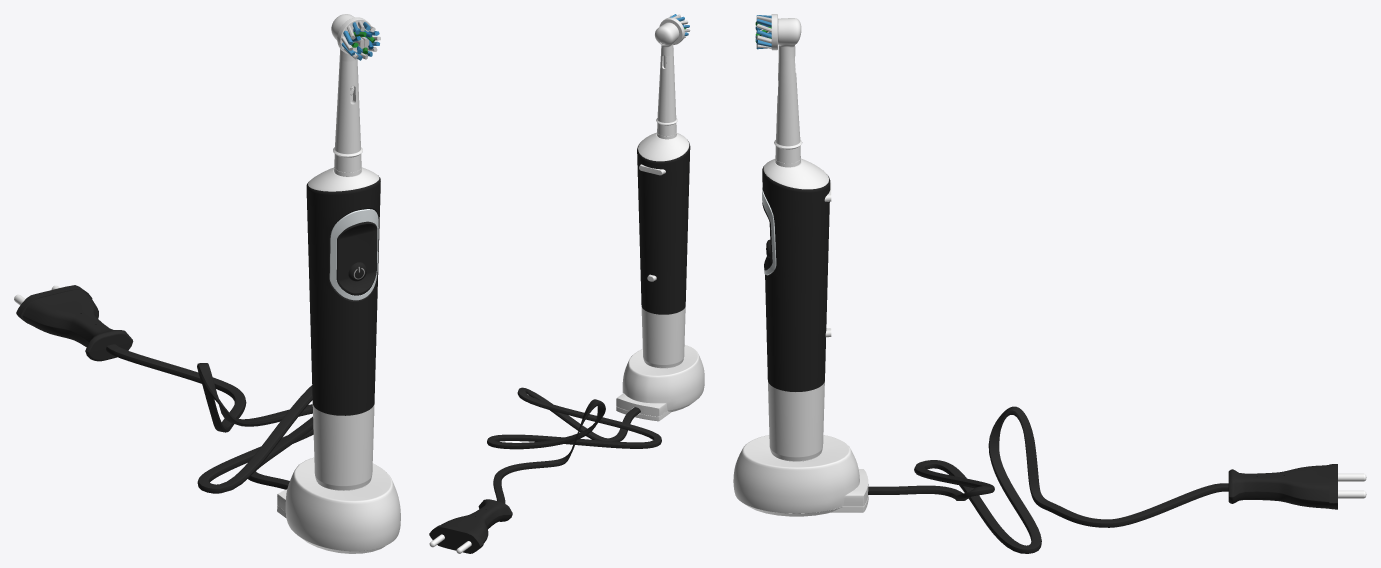
The model's file is electric_toothbrush.glb.
3 renders of one model, left to right at view 1: azimuth 30°, elevation 25°; view 2: azimuth 150°, elevation 25°; view 3: azimuth 270°, elevation 25°, orthographic. The views are drawn at different scales.
Parts seen in each view (by area): view 1: SM_ORAL_B_Brush_2; view 2: SM_ORAL_B_Brush_2; view 3: SM_ORAL_B_Brush_2.
Part boxes in pixels (x1,y1,x2,y2): SM_ORAL_B_Brush_2: (14, 14, 400, 553); SM_ORAL_B_Brush_2: (429, 14, 704, 553); SM_ORAL_B_Brush_2: (733, 14, 1366, 553).
Bounding box in the file's own units: 9.24 × 24.21 × 28.67.
Materials: 1 (1 with a texture image).
